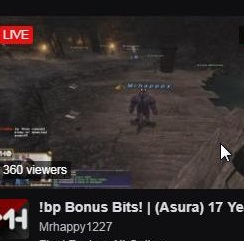cursor: (216, 141, 233, 166)
